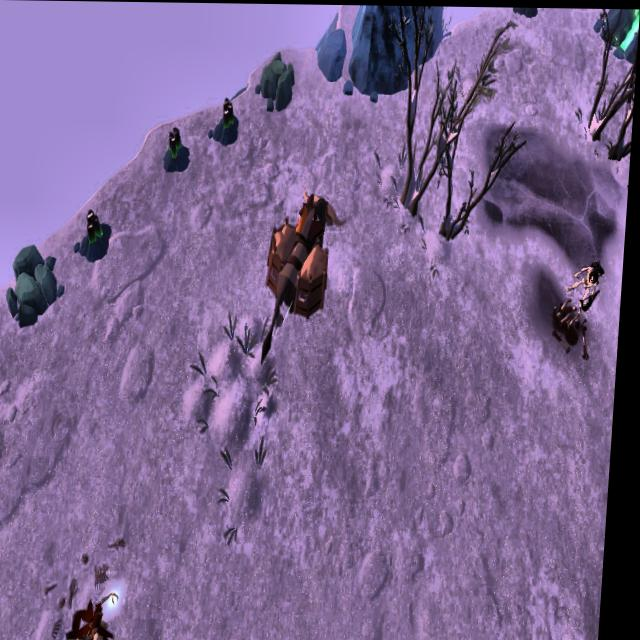enemy_factionUndead: (76, 590, 126, 640), (571, 260, 606, 309)
ore_t3: (87, 203, 108, 247), (166, 119, 186, 162), (221, 94, 239, 132)
rock_t3: (7, 240, 71, 321), (257, 48, 301, 112)
